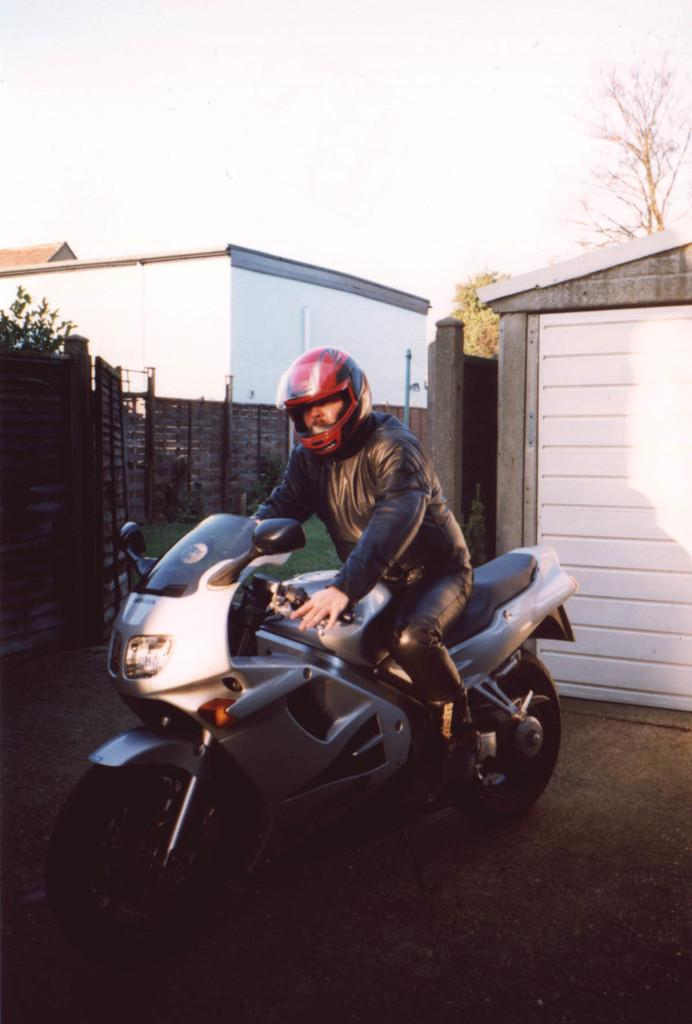helmet: (276, 347, 372, 457)
